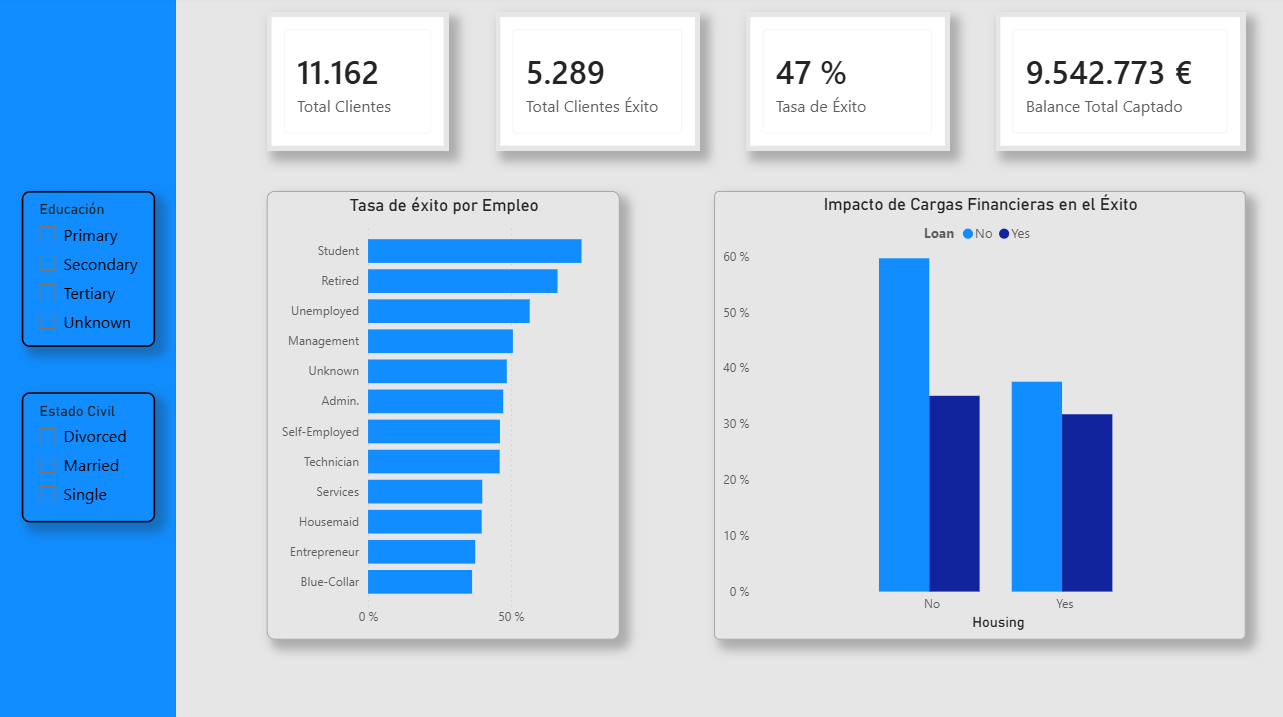

The page's visual inventory and layout, read from the dashboard file:
{"tool":"powerbi","page":{"name":"Página 1","canvas":[1280,720],"ordinal":0},"visuals":[{"type":"cardVisual","fields":{"Data":["_dimensiones.Total Clientes"]},"box":[267.5,16.2,181.6,138.1],"z":0},{"type":"cardVisual","fields":{"Data":["_dimensiones.Total Clientes Exito"]},"box":[494.9,16.2,203,138],"z":1000},{"type":"cardVisual","fields":{"Data":["_dimensiones.Tasa de éxito"]},"box":[743.8,16.2,203,138],"z":2000},{"type":"clusteredBarChart","title":"Tasa de éxito por Empleo","fields":{"Category":["fct_marketing.job"],"Y":["_dimensiones.Tasa de éxito"]},"box":[267.8,193.9,351.5,446.3],"z":3000},{"type":"clusteredColumnChart","title":"Impacto de Cargas Financieras en el Éxito","fields":{"Category":["fct_marketing.housing"],"Series":["fct_marketing.loan"],"Y":["_dimensiones.Tasa de éxito"]},"box":[712.8,193.9,528.7,446],"z":5000},{"type":"cardVisual","fields":{"Data":["_dimensiones.Balance total captado"]},"box":[992.7,16.2,248.8,138.1],"z":7000},{"type":"shape","box":[0,0,177.1,719.6],"z":8000},{"type":"slicer","fields":{"Values":["fct_marketing.education"]},"box":[23.7,193.9,132.5,154.8],"z":8500},{"type":"slicer","fields":{"Values":["fct_marketing.marital"]},"box":[23.7,394.7,132.5,129.7],"z":9000}]}

Visuals, with their boxes in screenshot pixels (x1, y1, x2, y2), scaled from the page's 1280x720 canvas onto the 1283x717 screenshot:
cardVisual - _dimensiones.Total Clientes: {"x1": 268, "y1": 16, "x2": 450, "y2": 154}
cardVisual - _dimensiones.Total Clientes Exito: {"x1": 496, "y1": 16, "x2": 700, "y2": 154}
cardVisual - _dimensiones.Tasa de éxito: {"x1": 746, "y1": 16, "x2": 949, "y2": 154}
"Tasa de éxito por Empleo" clusteredBarChart: {"x1": 268, "y1": 193, "x2": 621, "y2": 638}
"Impacto de Cargas Financieras en el Éxito" clusteredColumnChart: {"x1": 714, "y1": 193, "x2": 1244, "y2": 637}
cardVisual - _dimensiones.Balance total captado: {"x1": 995, "y1": 16, "x2": 1244, "y2": 154}
shape: {"x1": 0, "y1": 0, "x2": 178, "y2": 716}
slicer - fct_marketing.education: {"x1": 24, "y1": 193, "x2": 157, "y2": 347}
slicer - fct_marketing.marital: {"x1": 24, "y1": 393, "x2": 157, "y2": 522}
